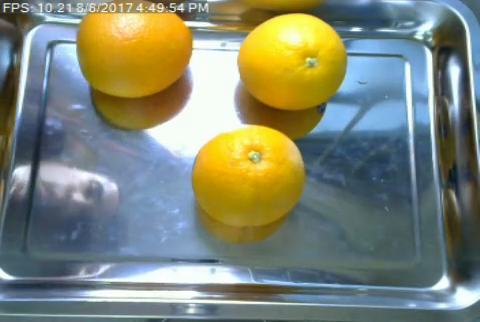Orange: (191, 126, 305, 227), (238, 13, 346, 111), (74, 11, 193, 97)
